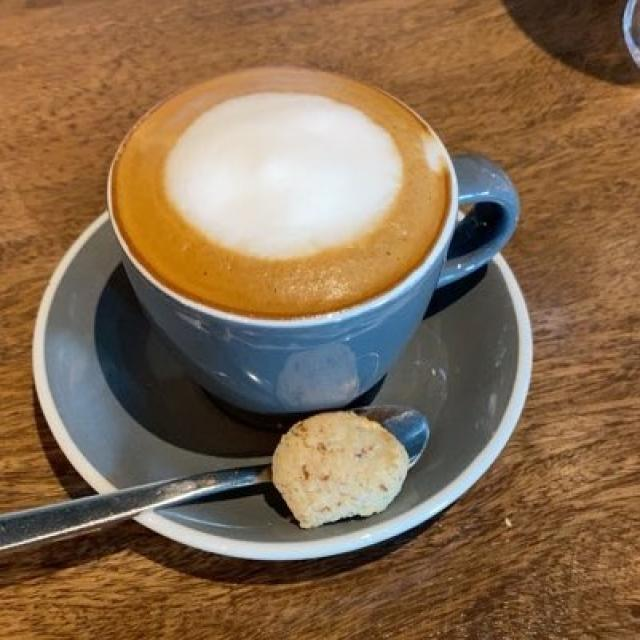biscuits: (274, 412, 406, 521)
cappuccino: (122, 90, 438, 310)
